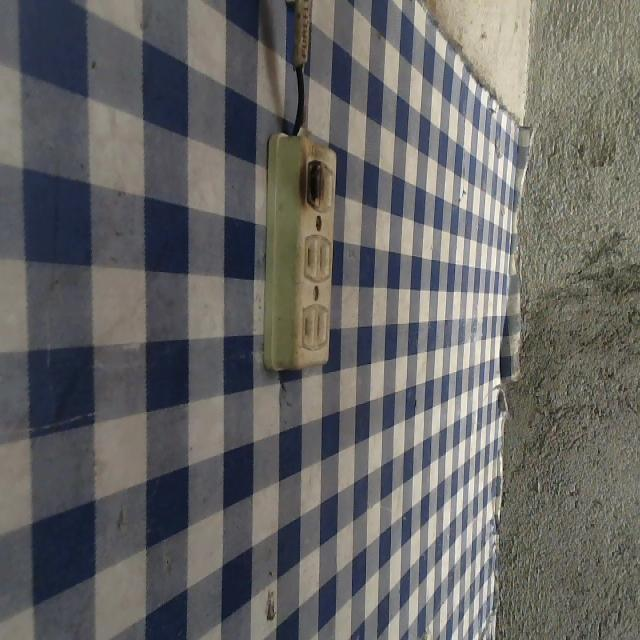-: (292, 156, 328, 216)
